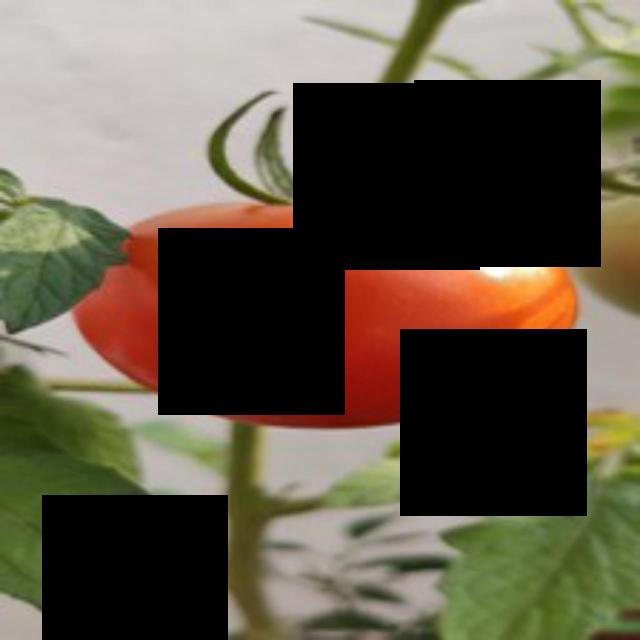tomato: (78, 199, 606, 441)
